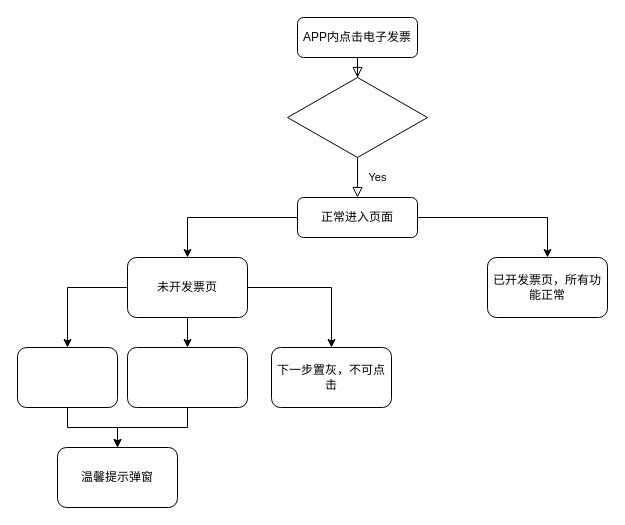
The diagram is 625 pixels wide and 525 high, and some of its shapes have lost their labels. The shapes that lost their labels are listed below. From the top down, each one's centre as x and y in pixels, then its label:
At [357,117]: "发票次数超限？".
At [67,377]: "首次切换发票类型".
At [187,377]: "选择或点击需开票的数据".
